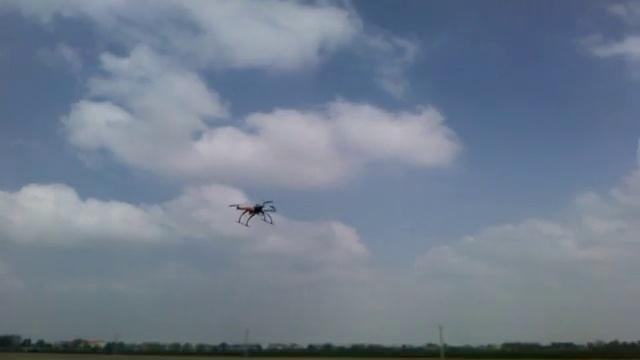drone: (226, 196, 278, 228)
